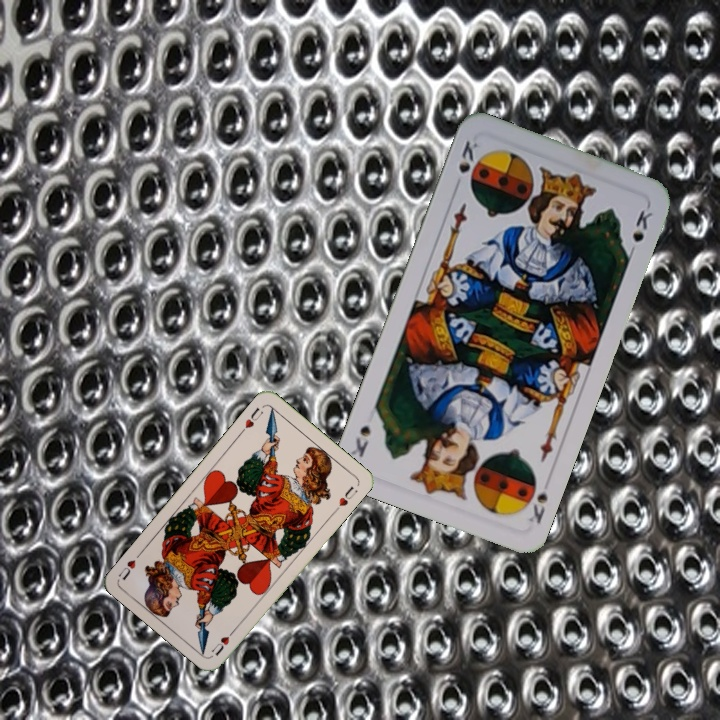HU: (207, 624, 238, 659), (236, 403, 266, 436)
SK: (450, 136, 483, 192), (524, 488, 551, 527)
